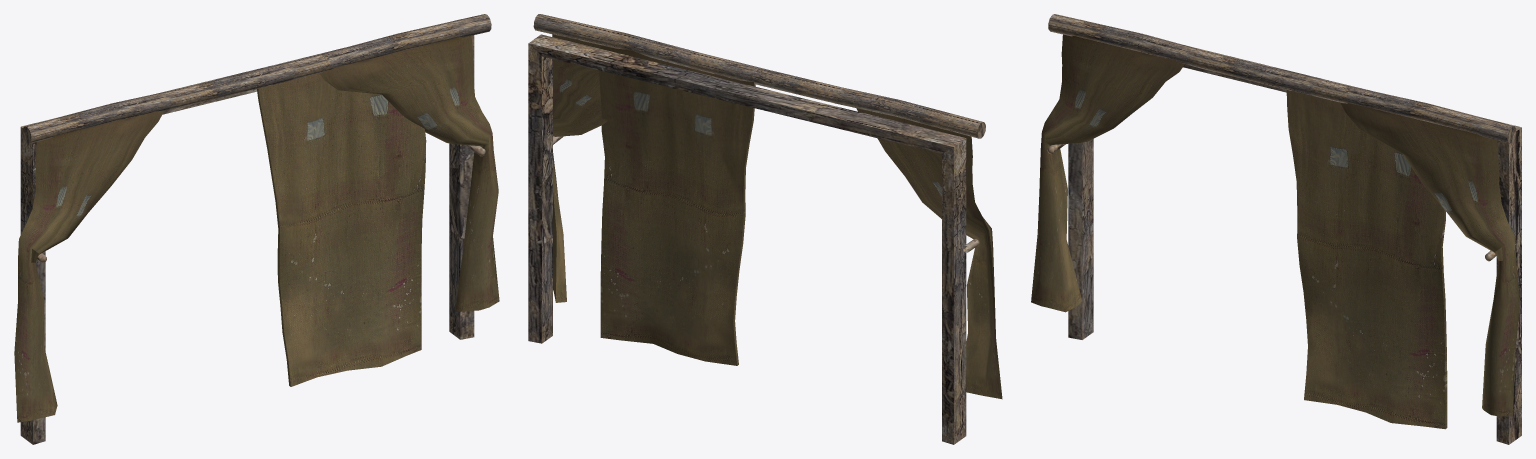
Rendered from CurtainDoor_large_prp.fbx.
3 renders of one model, left to right at view 1: azimuth 30°, elevation 25°; view 2: azimuth 150°, elevation 25°; view 3: azimuth 330°, elevation 25°, orthographic. The views are drawn at different scales.
Parts seen in each view (by area): view 1: CenterCurtain_1, RightCurtain_1, LeftCurtain_1, doorTrim_1, DoorFrame_1; view 2: CenterCurtain_1, DoorFrame_1, LeftCurtain_1, doorTrim_1, RightCurtain_1; view 3: CenterCurtain_1, RightCurtain_1, LeftCurtain_1, DoorFrame_1, doorTrim_1.
Part boxes in pixels (left/top/right/bottom): CenterCurtain_1: left=257, top=73, right=426, bottom=386; RightCurtain_1: left=320, top=35, right=499, bottom=311; LeftCurtain_1: left=14, top=111, right=163, bottom=422; doorTrim_1: left=22, top=14, right=491, bottom=143; DoorFrame_1: left=20, top=19, right=485, bottom=444; CenterCurtain_1: left=599, top=45, right=755, bottom=365; DoorFrame_1: left=528, top=34, right=979, bottom=444; LeftCurtain_1: left=856, top=108, right=1002, bottom=399; doorTrim_1: left=533, top=14, right=985, bottom=138; RightCurtain_1: left=552, top=34, right=607, bottom=302; CenterCurtain_1: left=1286, top=90, right=1447, bottom=429; RightCurtain_1: left=1340, top=102, right=1519, bottom=416; LeftCurtain_1: left=1031, top=34, right=1184, bottom=312; DoorFrame_1: left=1047, top=20, right=1521, bottom=444; doorTrim_1: left=1048, top=14, right=1516, bottom=143.
Size of the model in its own units: 40.86 by 26.23 by 4.18.
